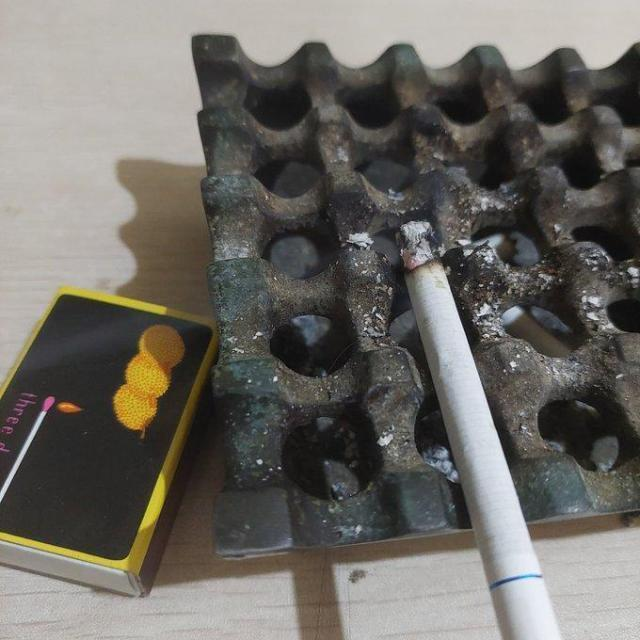rokok: (396, 223, 559, 640)
